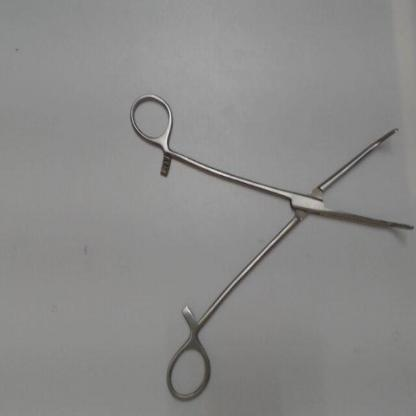Lahey Forceps: (124, 84, 416, 408)
